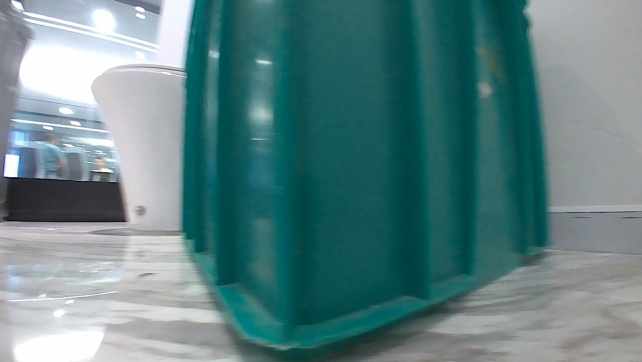toilet: (86, 60, 189, 235)
